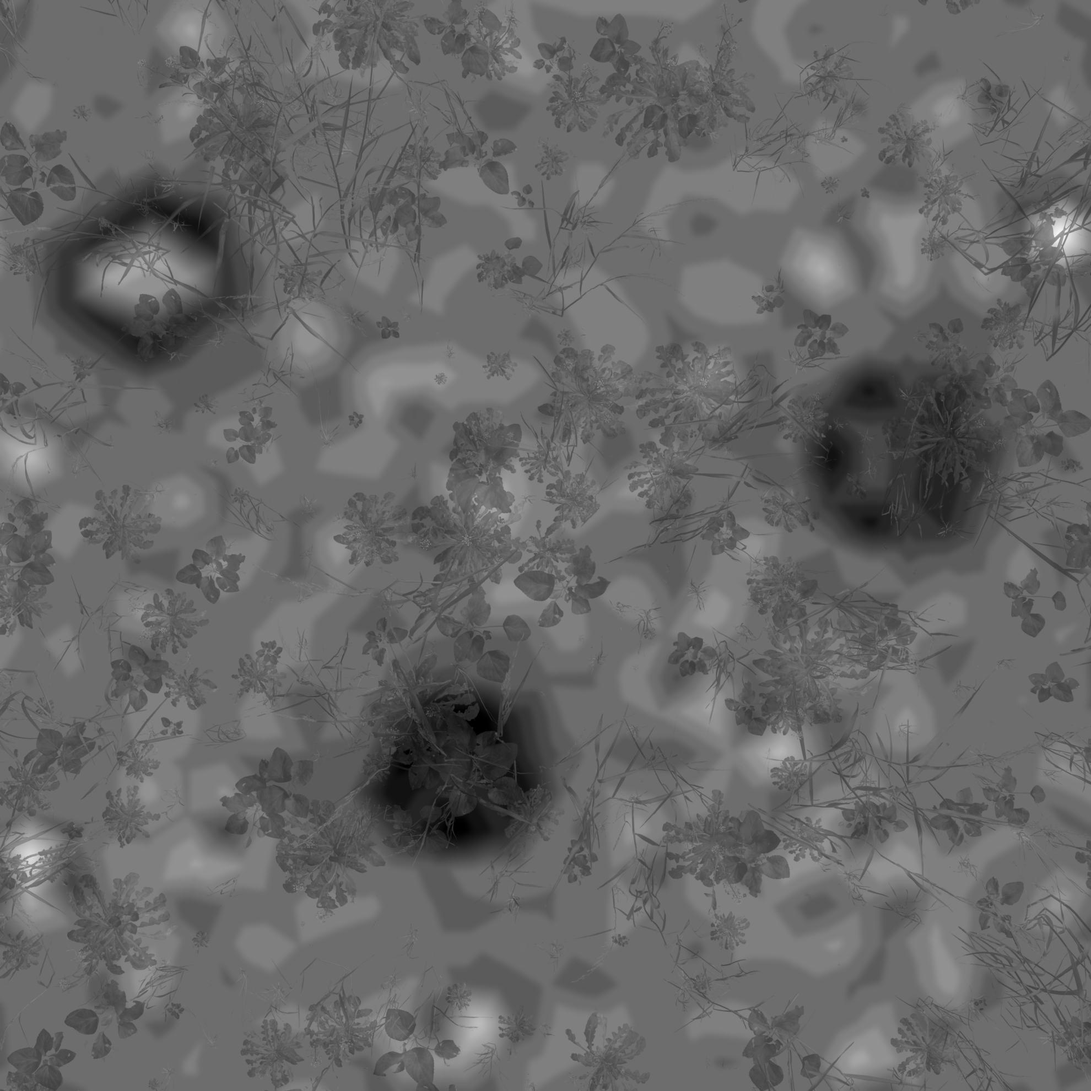landmine: (48, 192, 236, 372), (807, 373, 973, 548), (367, 701, 541, 856)
